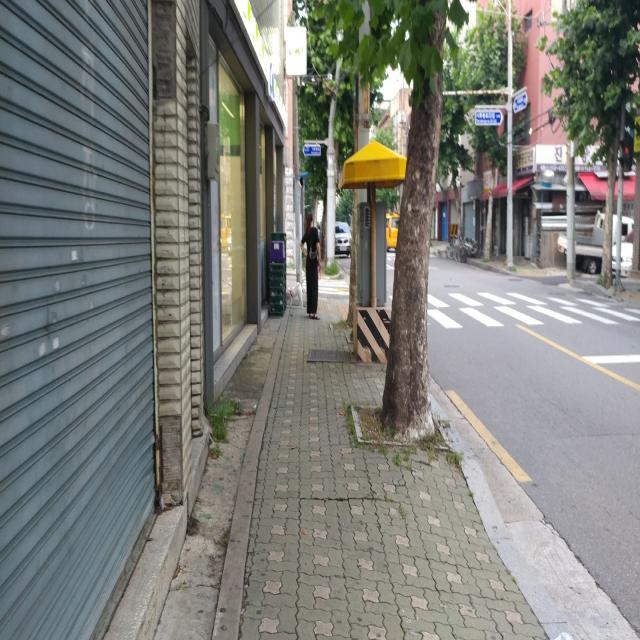횡단보도: (422, 288, 640, 331), (301, 280, 350, 296)
